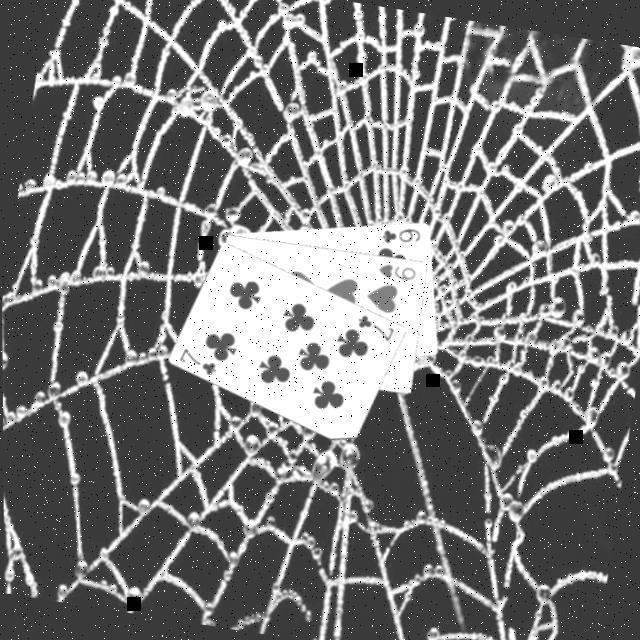6C: (378, 221, 425, 252)
7C: (175, 344, 222, 380), (353, 311, 400, 346)
9H: (375, 260, 420, 285)
